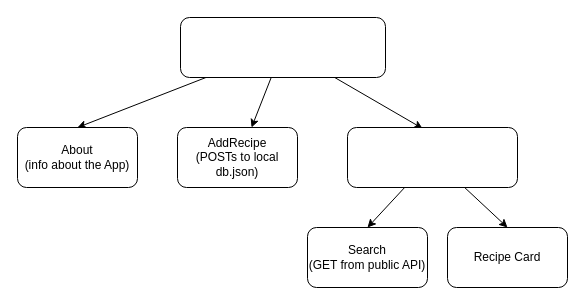
This 585x305 diagram has some shape labels left out. Here are the shapes that lost their labels. From the top down, the centre of each, then its label:
[283,47]: App (Header with routes in here)
[432,157]: RecipeList (can switch back and forth from favorites to search results)
